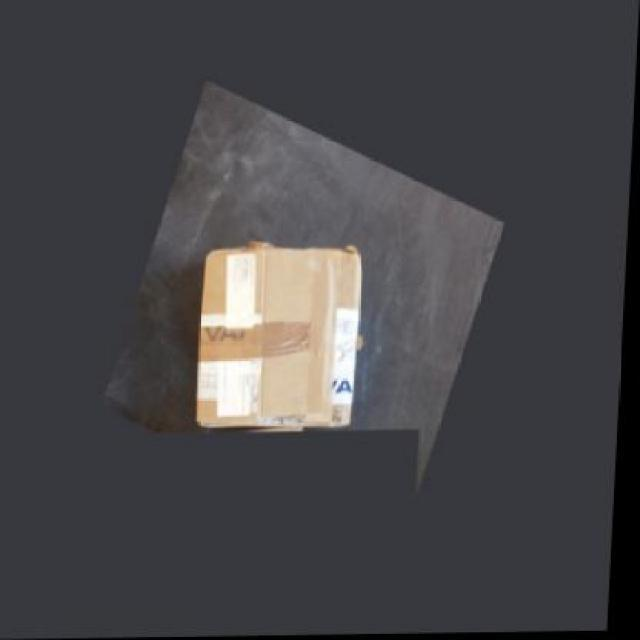box: (202, 243, 362, 425)
